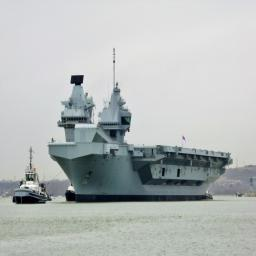Portanaves: (48, 56, 236, 205)
